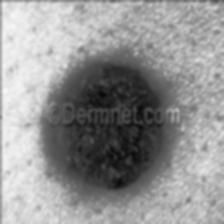Potentially Malignant Skin Tumors: (53, 58, 159, 192), (110, 139, 124, 158), (86, 129, 94, 145)
